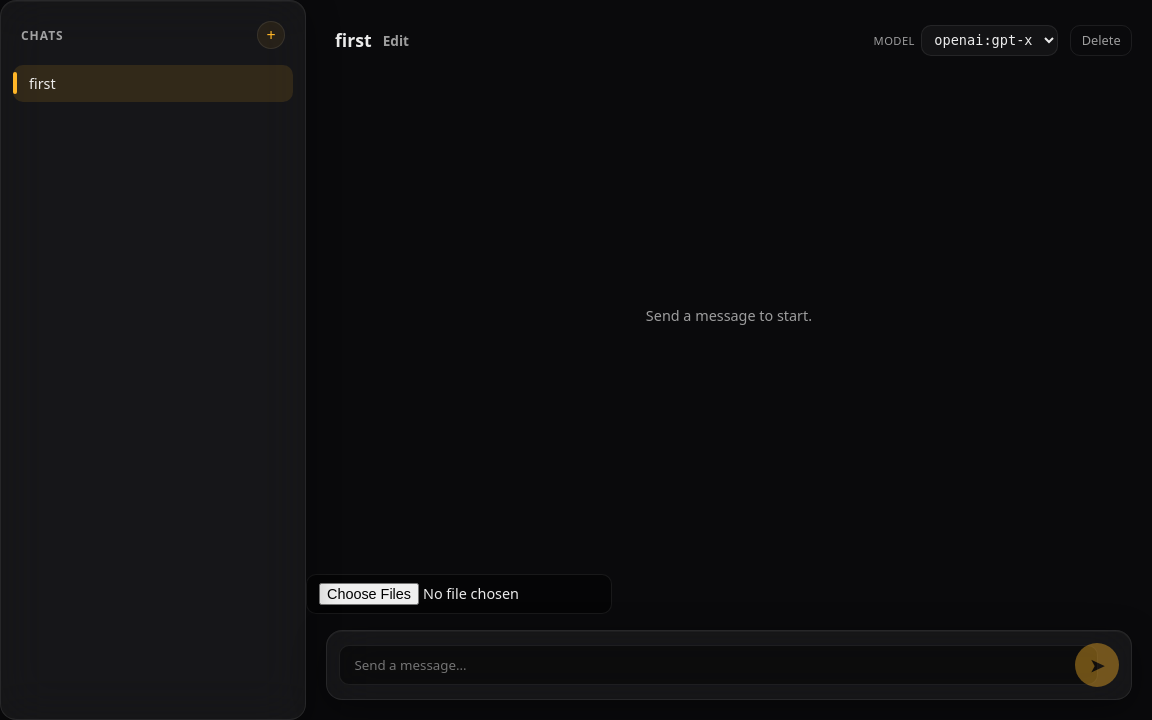
ChatPanel page (component) › a failed PATCH for the title reverts the displayed title
Click the button with test id "chat-title" at (353, 40), box x1=326 y1=24 x2=862 y2=57
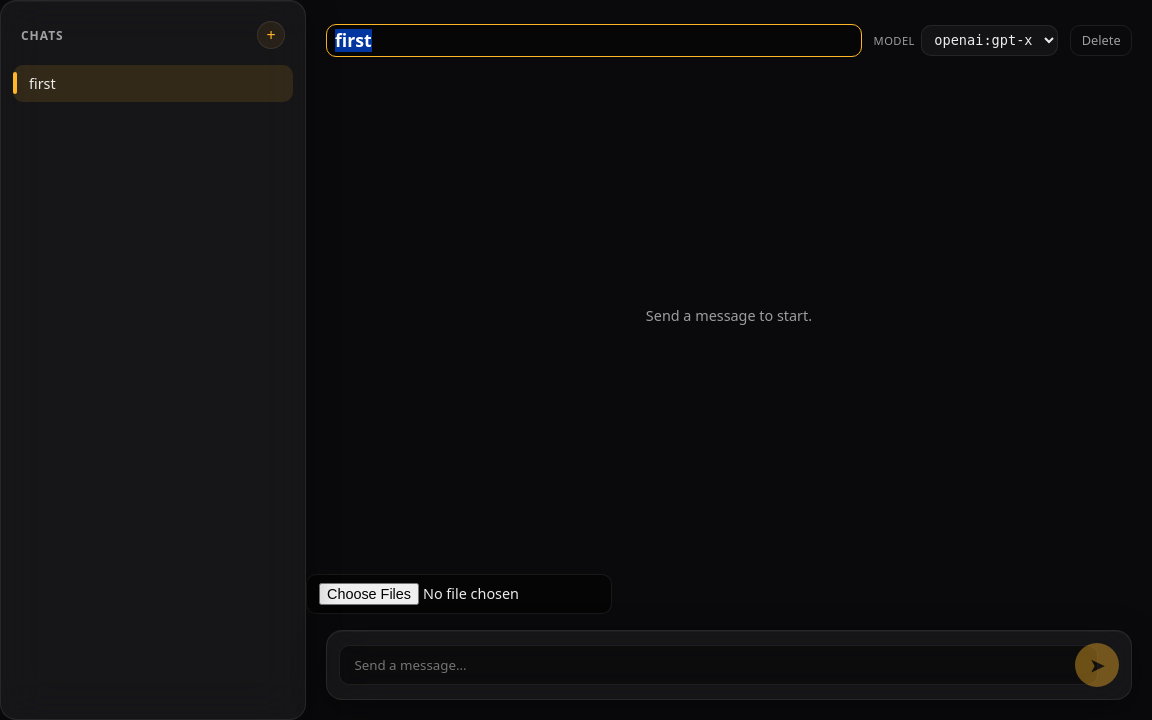
Replace the text in the field with test id "chat-title-input" with "bad name" at (594, 40), box x1=326 y1=24 x2=862 y2=57
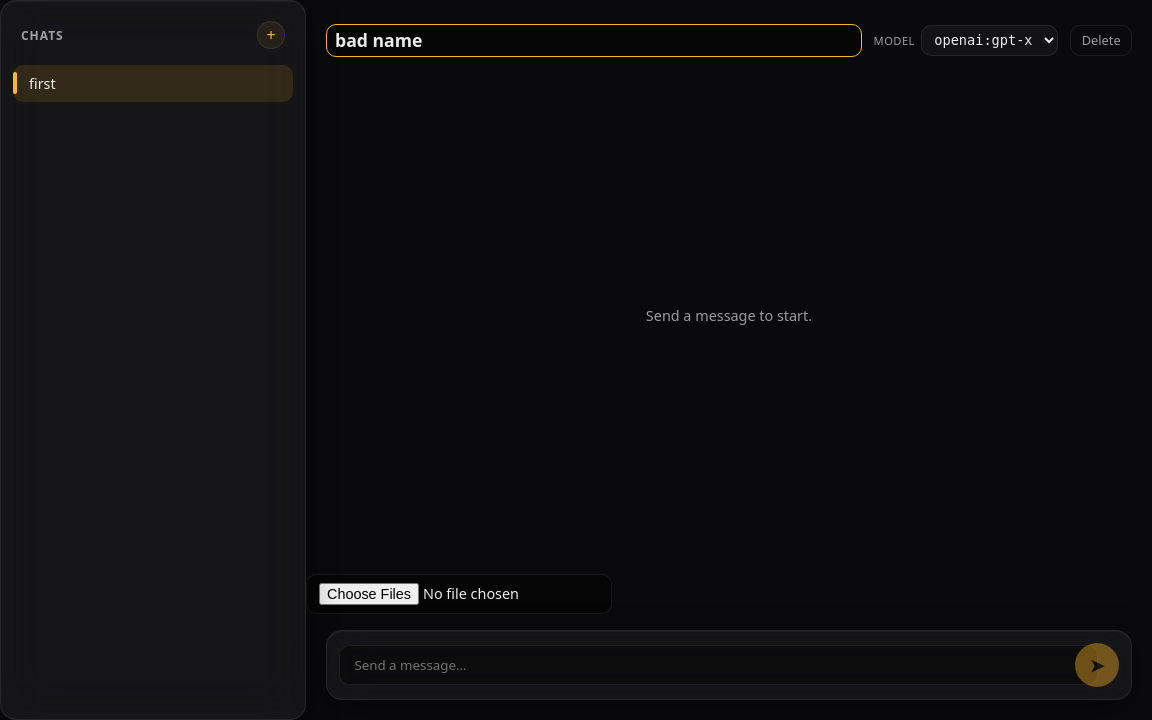
Press Enter in the field with test id "chat-title-input", box x1=326 y1=24 x2=862 y2=57
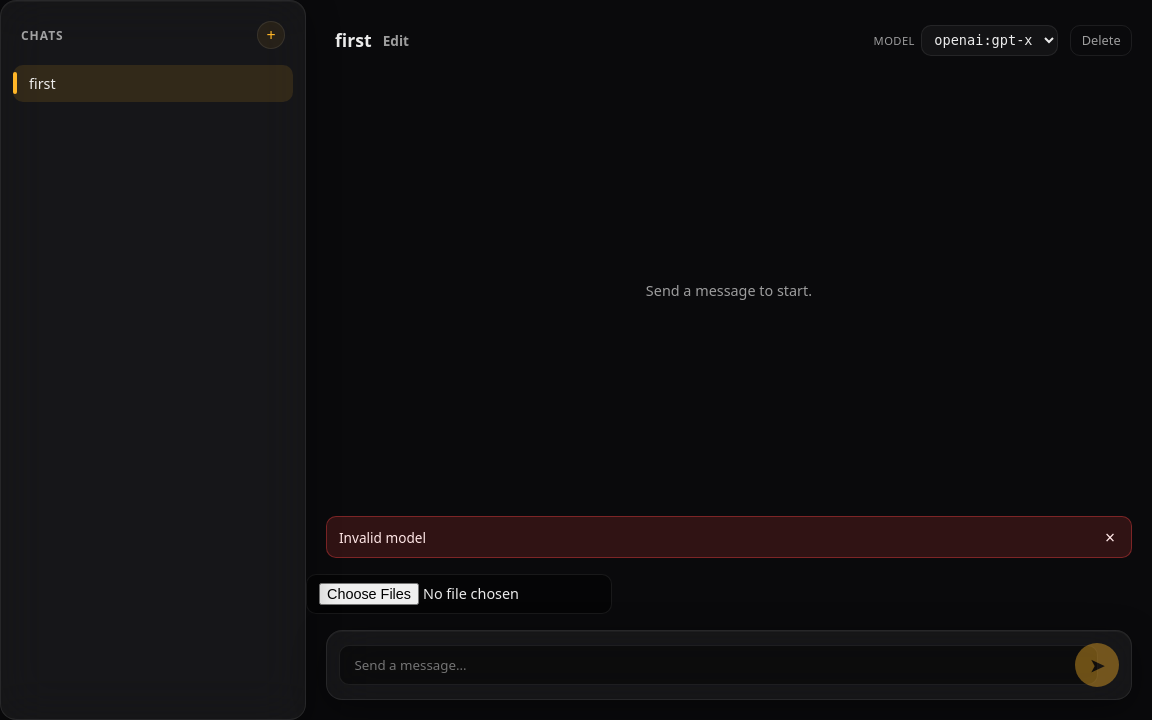
Result: the message "Invalid model ×" is shown at x1=326 y1=516 x2=1132 y2=558
Result: the button with test id "chat-title" shows "first" at x1=326 y1=24 x2=862 y2=57
